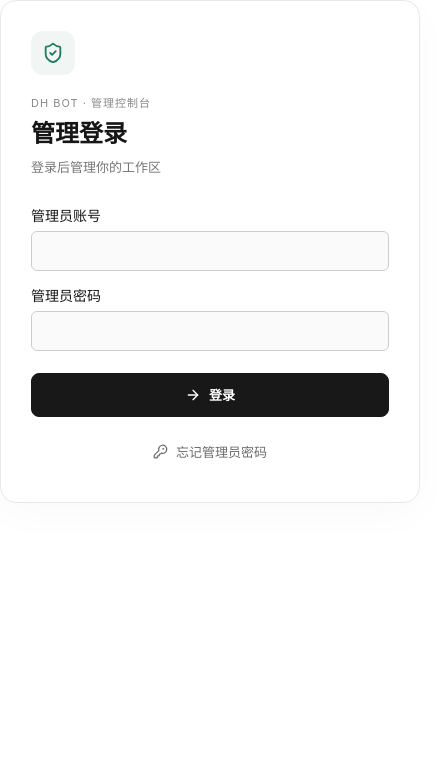
Test case: clears reset instructions when returning to login
The image size is (437, 766).
Click the button "忘记管理员密码" at (210, 451), box [31, 431, 389, 472]
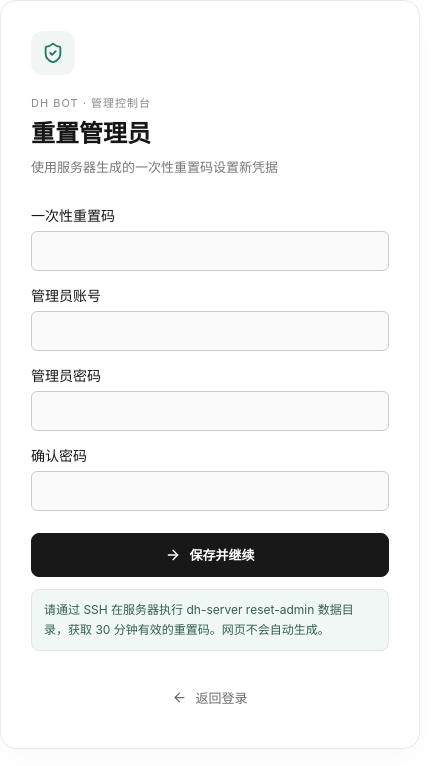
Now the message shows "网页不会自动生成", box [44, 602, 354, 637]
Click the button "返回登录" at (210, 698), box [31, 677, 389, 718]
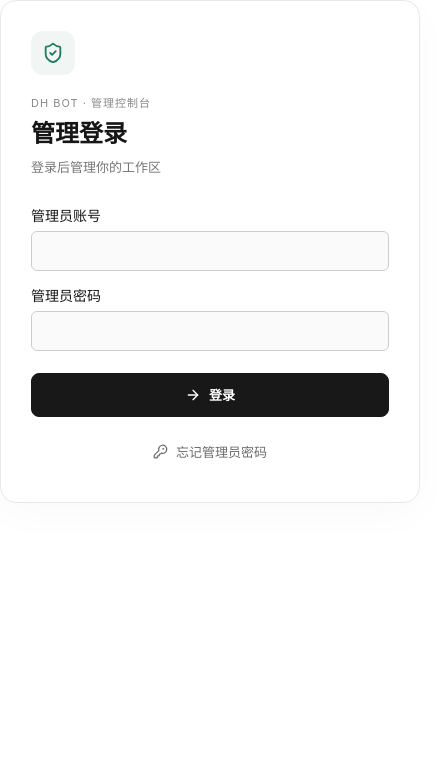
Now the message "请通过 SSH 在服务器执行 dh-server reset-admin 数据目录，获取 30 分钟有效的重置码。网页不会自动生成。" is gone
